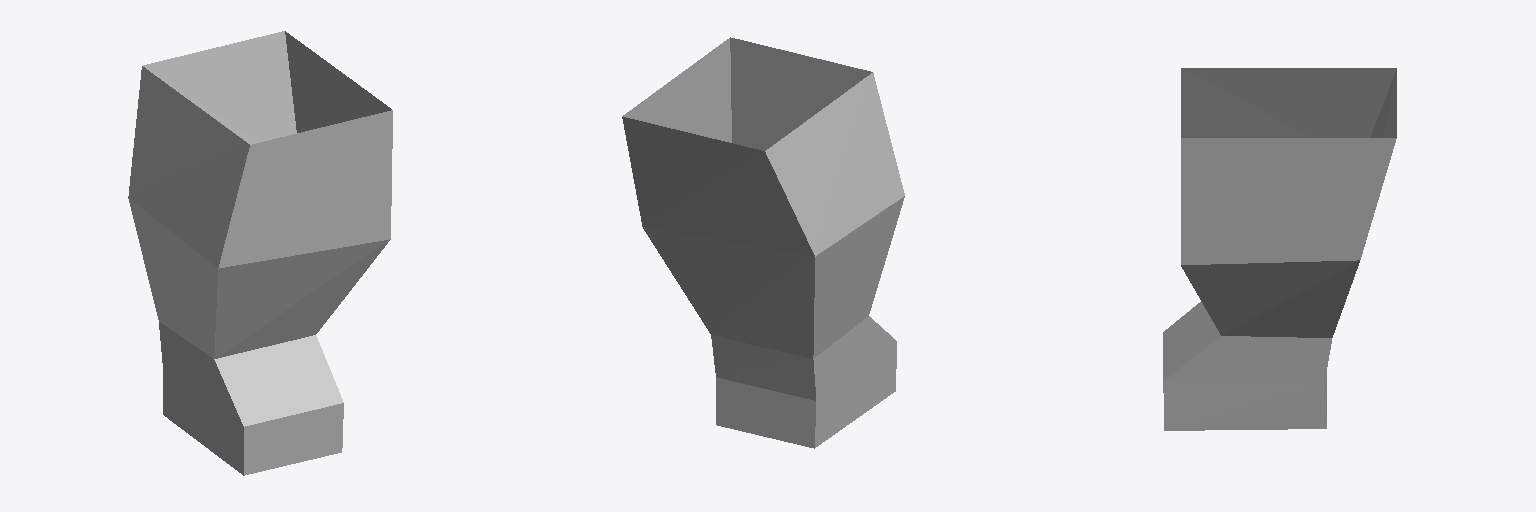
3 views of the same model, side by side, from view 1: azimuth 30°, elevation 25°; view 2: azimuth 150°, elevation 25°; view 3: azimuth 270°, elevation 25° (orthographic).
Visible parts, largest first — view 1: r_leg; view 2: r_leg; view 3: r_leg.
Part boxes in pixels (left/top/right/bottom): r_leg: left=128, top=31, right=392, bottom=475; r_leg: left=622, top=37, right=904, bottom=448; r_leg: left=1163, top=68, right=1396, bottom=430.
Size of the model in its own units: 0.1148 by 0.202 by 0.1331.